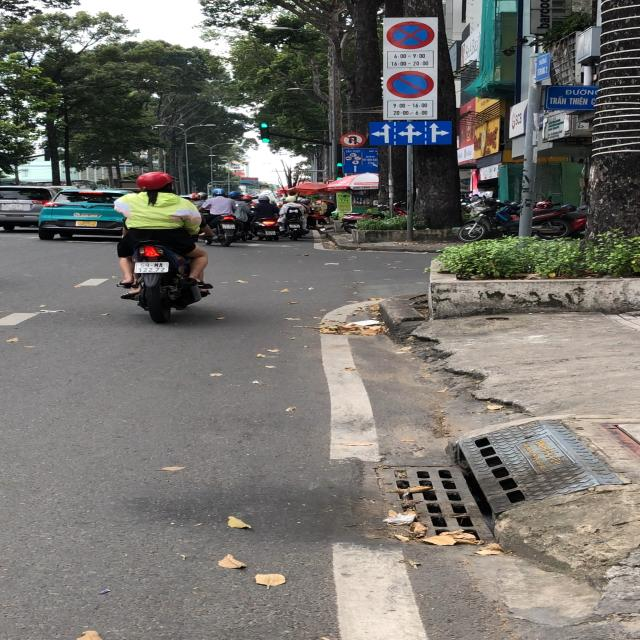Bien bao cam do xe: (383, 68, 447, 102)
Bien bao cam dung xe va do xe: (383, 18, 437, 49)
Bien bao cam quay dau xe: (340, 131, 369, 147)
